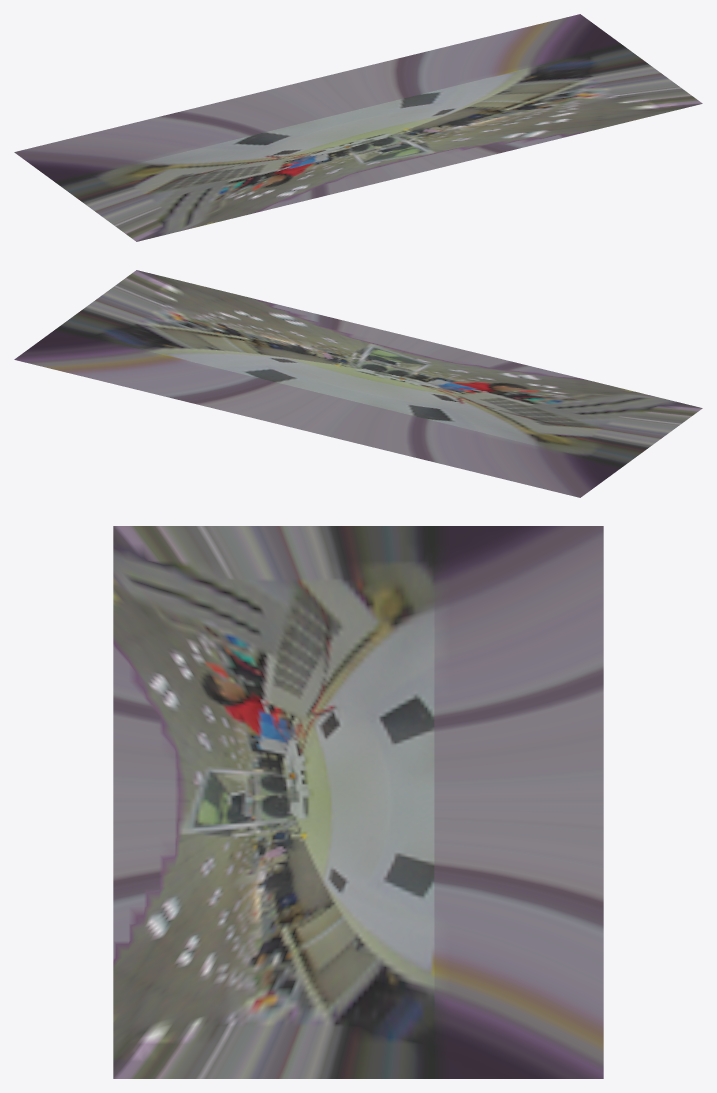
Rendered from plane_single.gltf.
The picture shows the model from 3 angles, top to bottom: view 1: azimuth 30°, elevation 25°; view 2: azimuth 150°, elevation 25°; view 3: azimuth 270°, elevation 25°; orthographic projection. The views are drawn at different scales.
Parts seen in each view (by area): view 1: front_wide; view 2: front_wide; view 3: front_wide.
Boxes of the visible parts, left/top/right/bottom form: front_wide: left=14, top=14, right=702, bottom=241; front_wide: left=14, top=270, right=702, bottom=497; front_wide: left=113, top=526, right=603, bottom=1078.
Bounding box in the file's own units: 19.2 × 0 × 7.2.
1 material, 1 textured.
